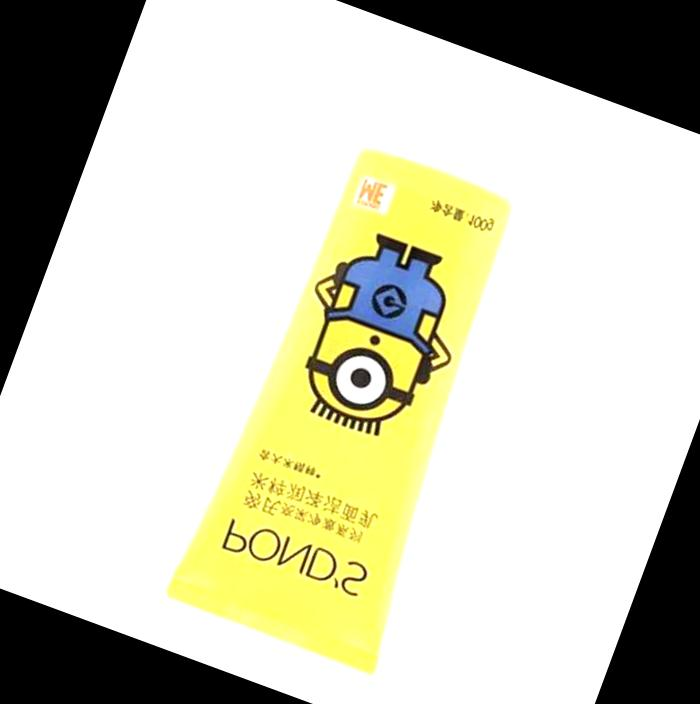cosmetic: (158, 39, 584, 676)
